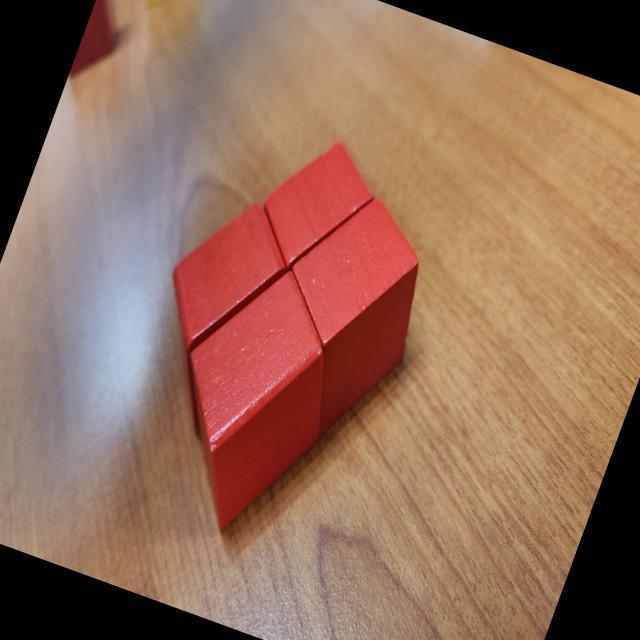red: (134, 247, 370, 554), (235, 176, 452, 466), (134, 184, 304, 418), (246, 125, 386, 289), (67, 0, 140, 90)
yellow: (117, 0, 208, 23)
